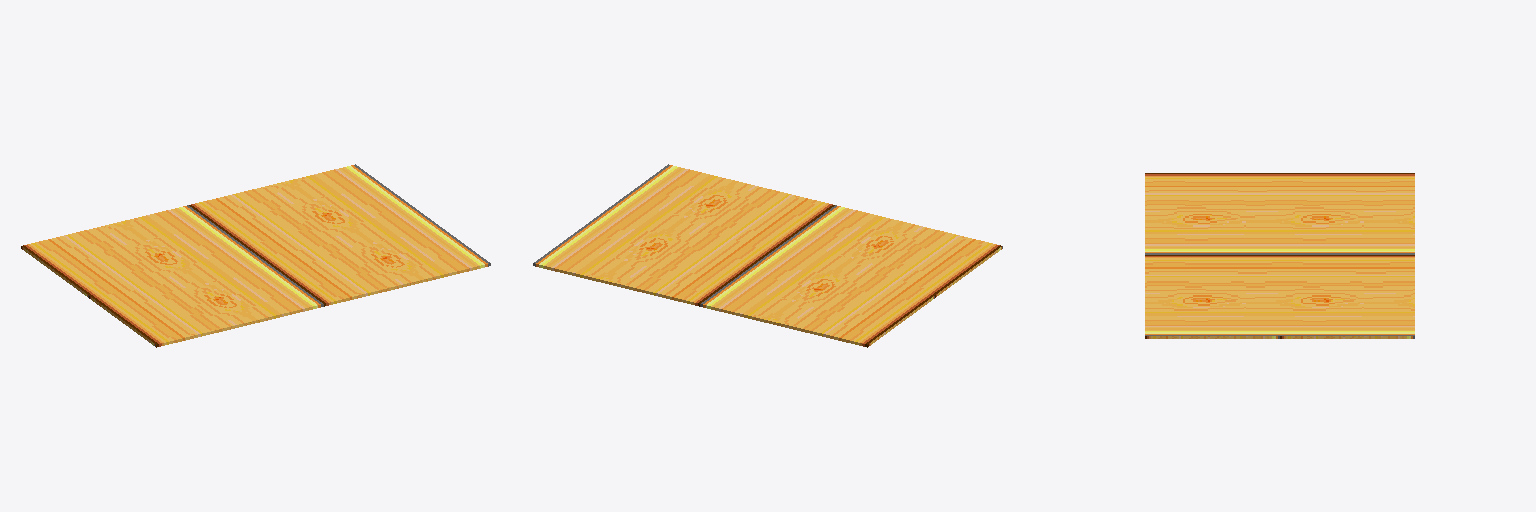
3 views of the same model, side by side, from view 1: azimuth 30°, elevation 25°; view 2: azimuth 150°, elevation 25°; view 3: azimuth 270°, elevation 25° (orthographic).
Visible parts, largest first — view 1: pCube6; view 2: pCube6; view 3: pCube6.
Part boxes in pixels (x1,y1,x2,y2): pCube6: (21, 164, 490, 347); pCube6: (533, 164, 1002, 347); pCube6: (1145, 173, 1414, 338).
Size of the model in its own units: 5.49 by 0.0457 by 3.84.
1 materials, 1 textured.